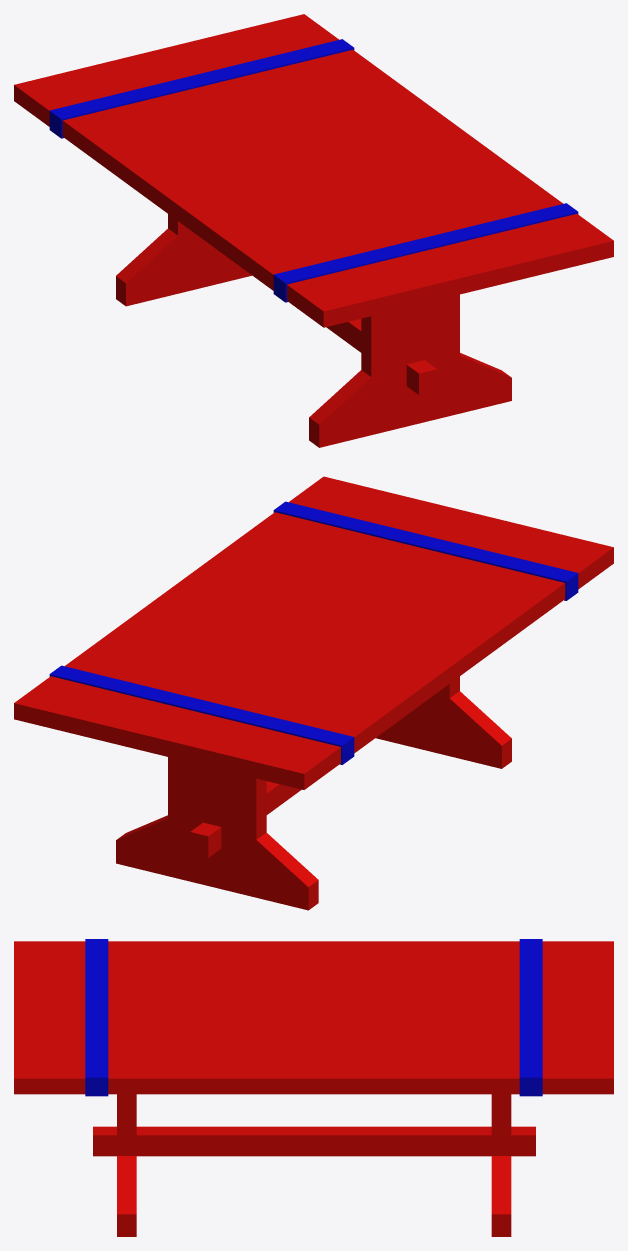
File: Table lowpoly.fbx
The picture shows the model from 3 angles, top to bottom: view 1: azimuth 30°, elevation 25°; view 2: azimuth 150°, elevation 25°; view 3: azimuth 270°, elevation 25°; orthographic projection. The views are drawn at different scales.
Parts seen in each view (by area): view 1: Cube.001; view 2: Cube.001; view 3: Cube.001.
Boxes of the visible parts, x1=… form: Cube.001: x1=14, y1=14, x2=613, y2=447; Cube.001: x1=14, y1=476, x2=613, y2=910; Cube.001: x1=14, y1=939, x2=613, y2=1236.
Bounding box in the file's own units: 132 × 81.62 × 243.
